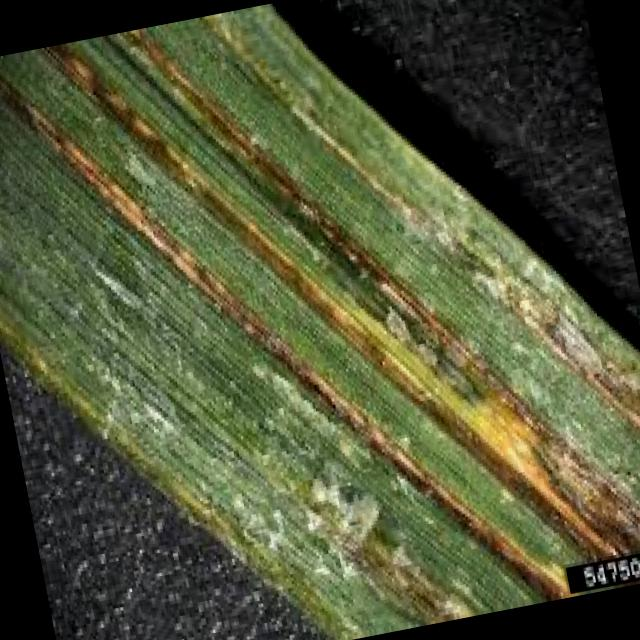leaf_blight: (0, 3, 640, 634)
